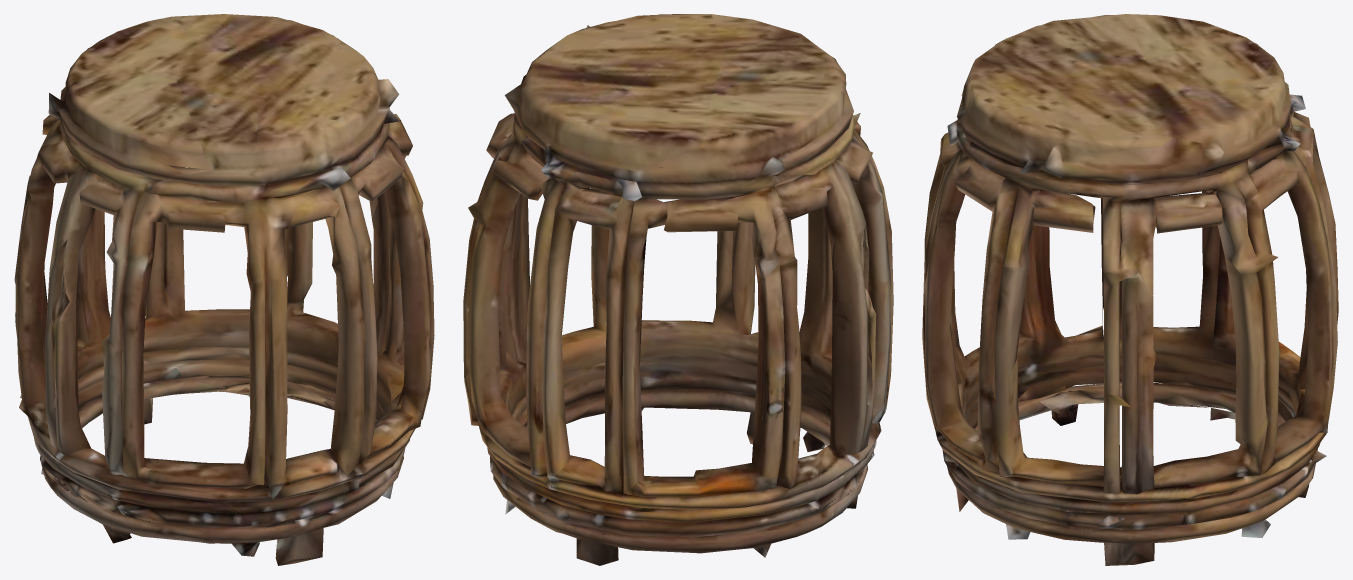
Rendered from zhudun.glb.
3 renders of one model, left to right at view 1: azimuth 30°, elevation 25°; view 2: azimuth 150°, elevation 25°; view 3: azimuth 270°, elevation 25°, orthographic. The views are drawn at different scales.
Visible parts, largest first — view 1: tripo_node_b7e847b0-4f0d-4569-abe8-2bc4b856a183; view 2: tripo_node_b7e847b0-4f0d-4569-abe8-2bc4b856a183; view 3: tripo_node_b7e847b0-4f0d-4569-abe8-2bc4b856a183.
Boxes of the visible parts, bbox=[...] form: tripo_node_b7e847b0-4f0d-4569-abe8-2bc4b856a183: bbox=[14, 14, 434, 565]; tripo_node_b7e847b0-4f0d-4569-abe8-2bc4b856a183: bbox=[463, 14, 893, 565]; tripo_node_b7e847b0-4f0d-4569-abe8-2bc4b856a183: bbox=[922, 14, 1338, 565].
Size of the model in its own units: 0.8937 by 1 by 0.8805.
Materials: 1 (1 with a texture image).
